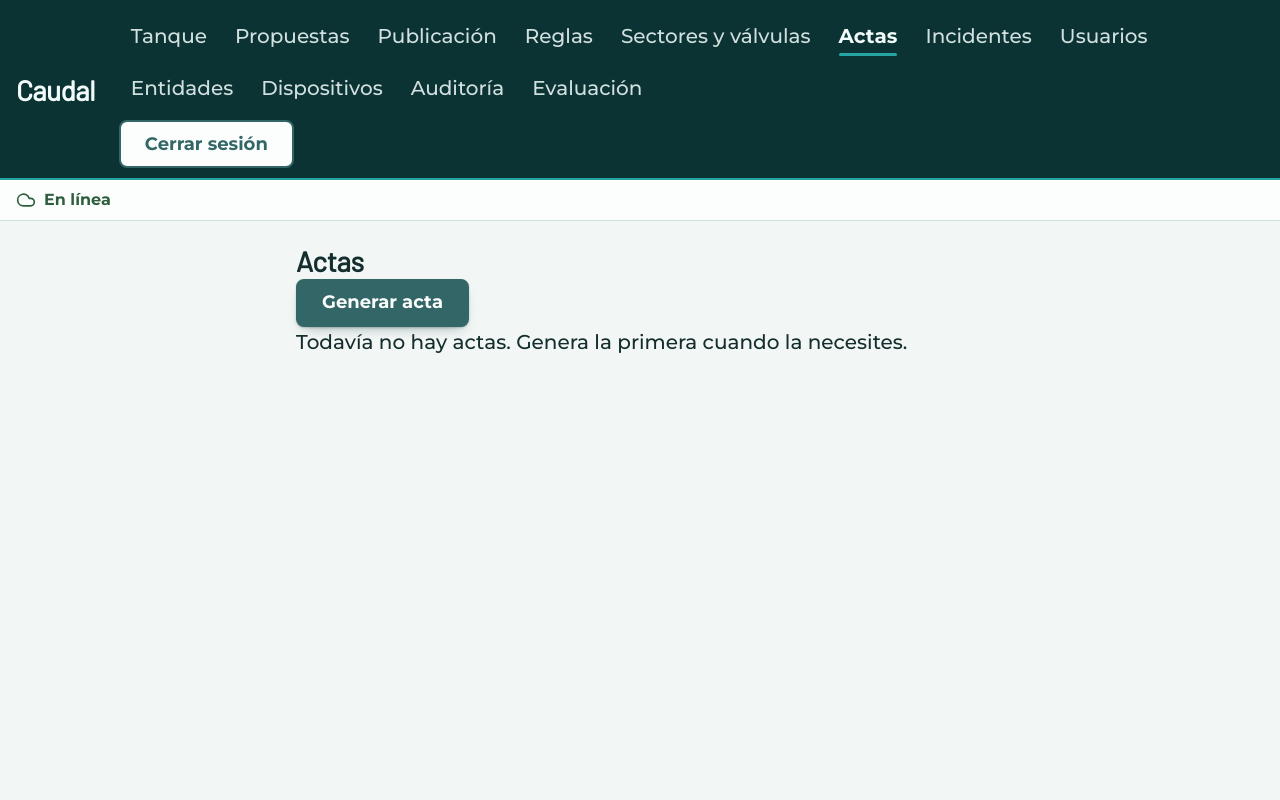
MinutesPage (S20, board) › generates an acta for a period and opens it
Click the button "Generar acta" at [382, 303], box [296,279,469,327]
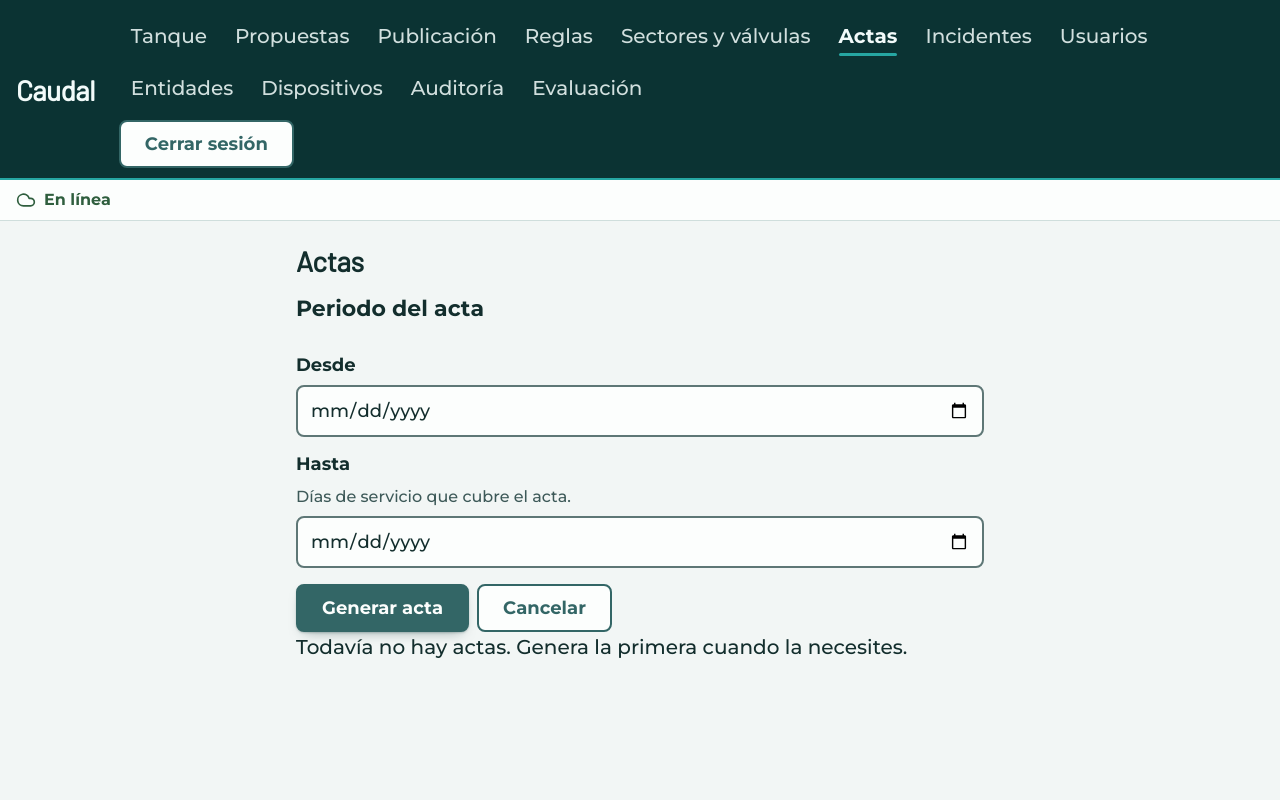
Type "2026-10-01" into the date field labelled "Desde" at [640, 412], box [296,386,984,438]
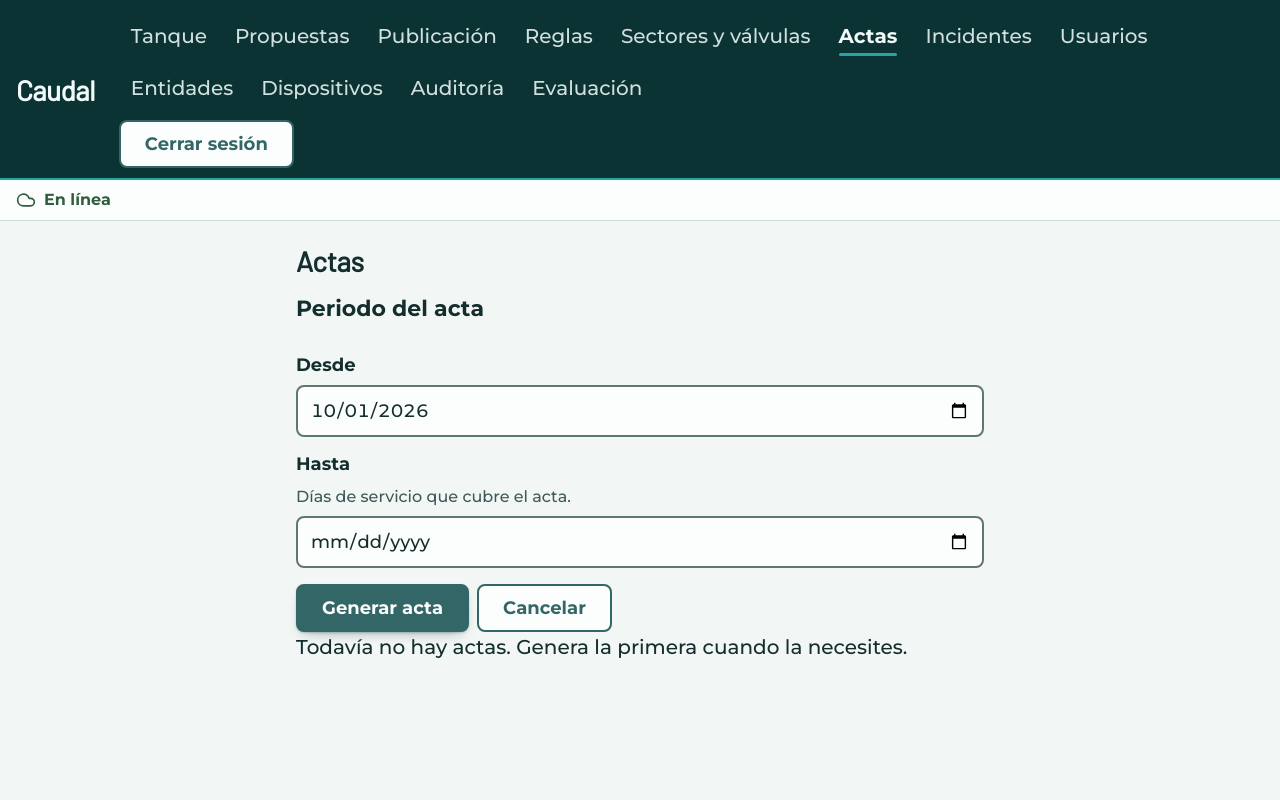
Type "2026-10-07" into the date field labelled "Hasta" at [640, 542], box [296,516,984,568]
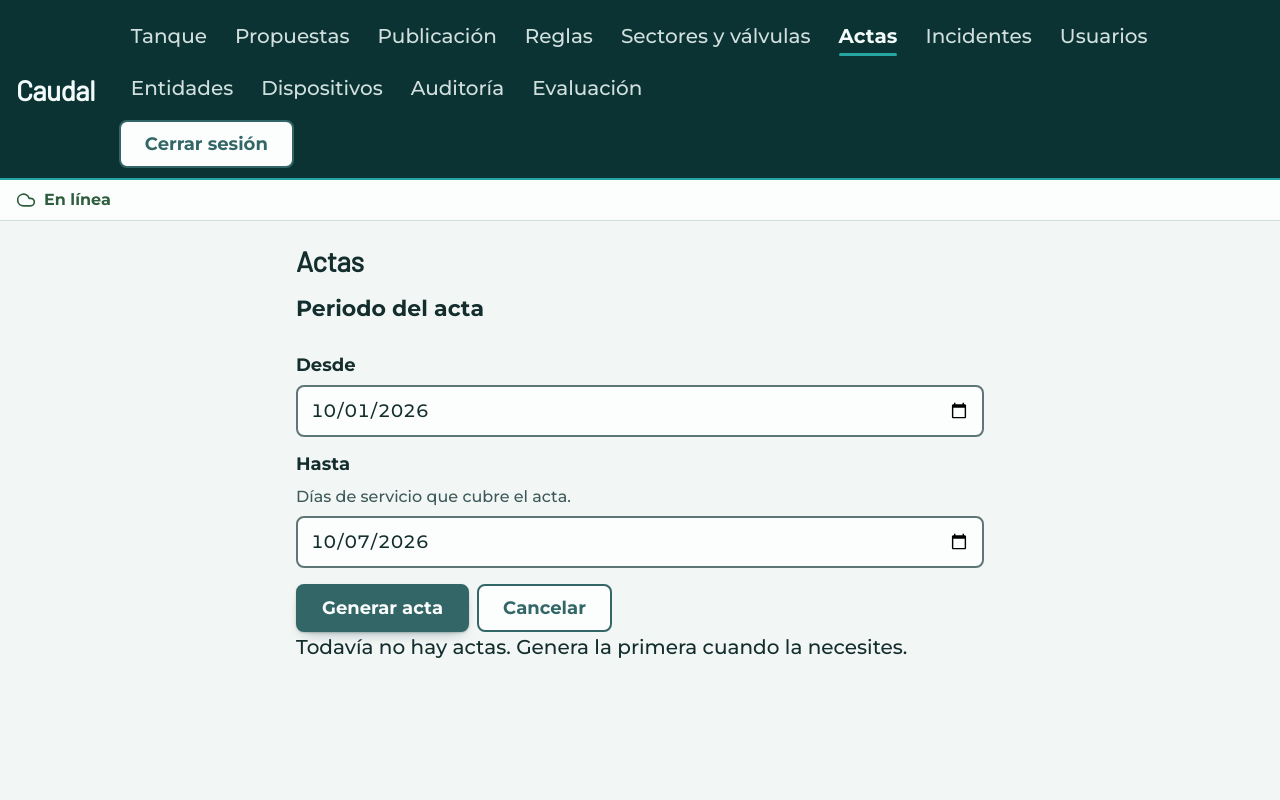
Click the button "Generar acta" at [382, 608], box [296,584,469,632]
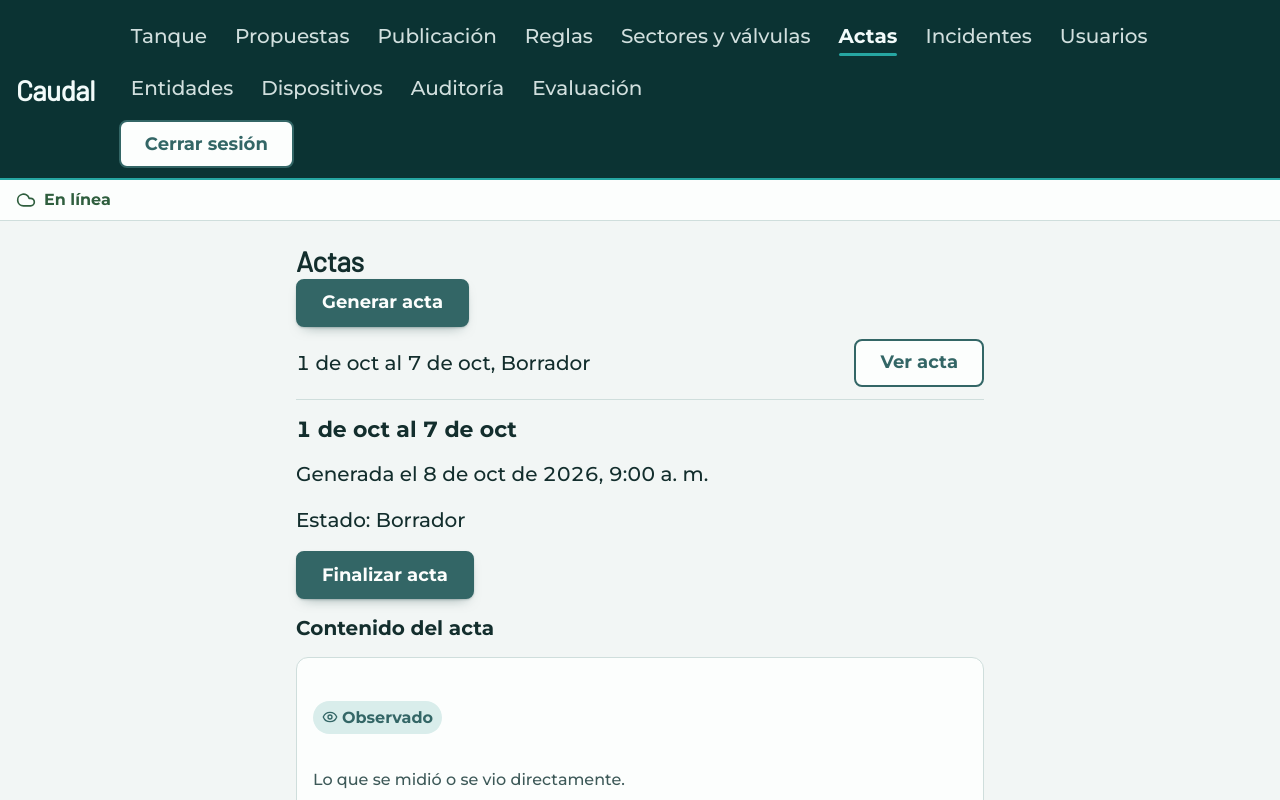
expect the heading "1 de oct al 7 de oct" is shown: met, box [296,416,517,443]
